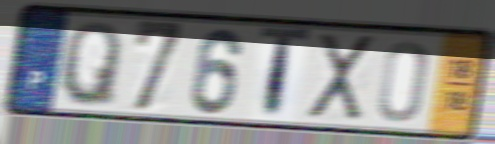0: (374, 38, 432, 125)
6: (188, 25, 245, 117)
7: (132, 17, 185, 117)
Q: (57, 18, 125, 111)
T: (256, 24, 314, 125)
X: (306, 31, 376, 123)
